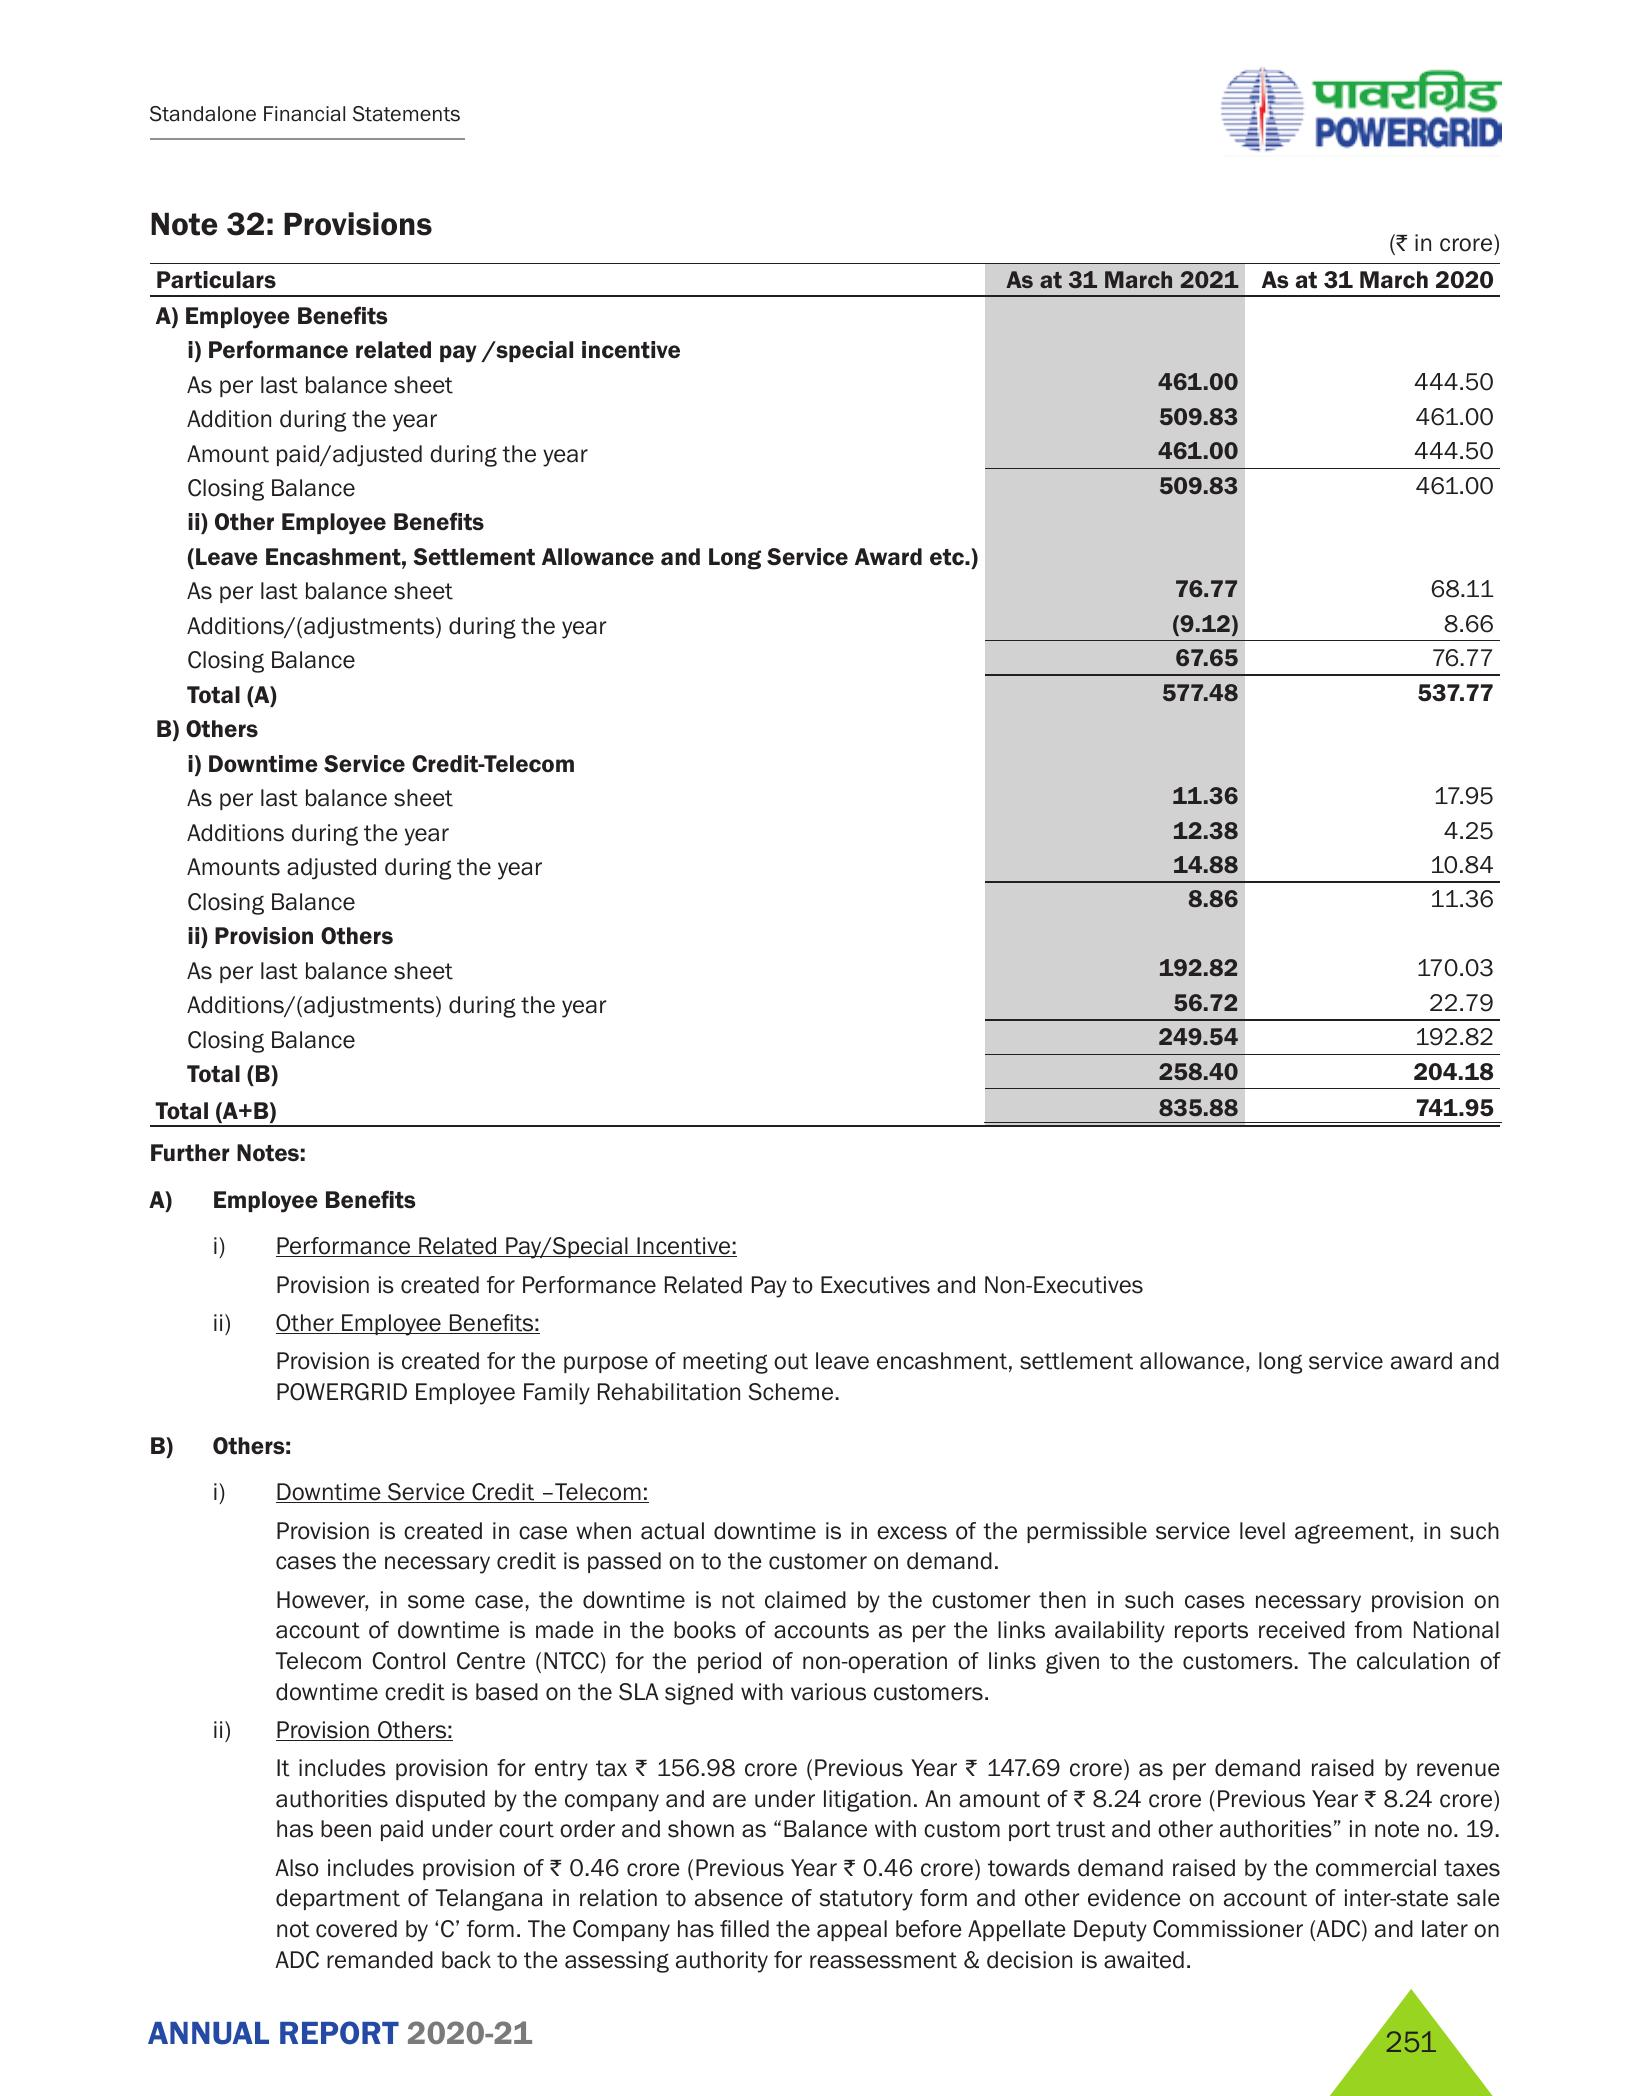Footer: (0, 1965, 1650, 2096)
Header: (0, 0, 1650, 163)
Table: (90, 257, 1533, 1128)
